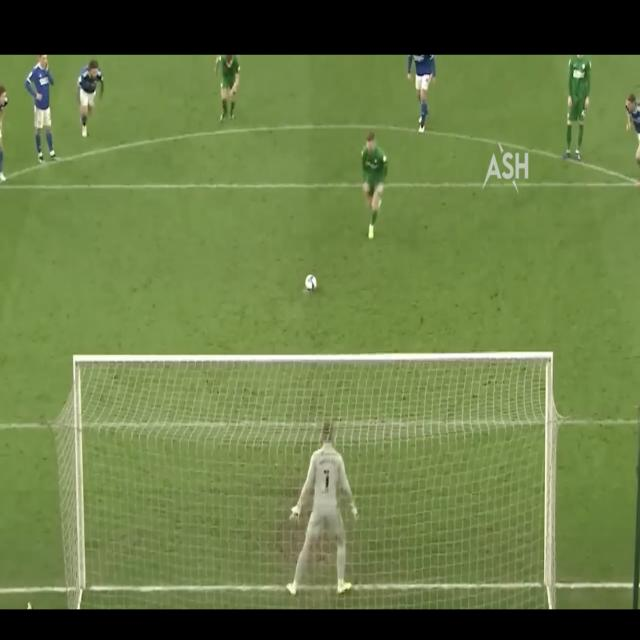soccer-goal: (76, 358, 551, 588)
